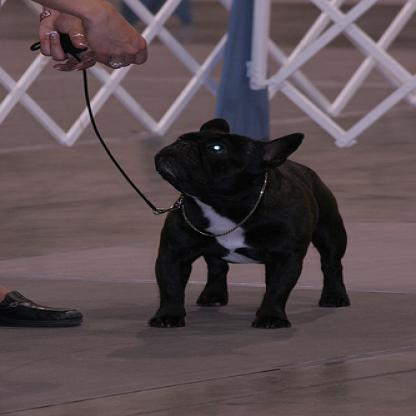French_bulldog: (142, 114, 350, 330)
